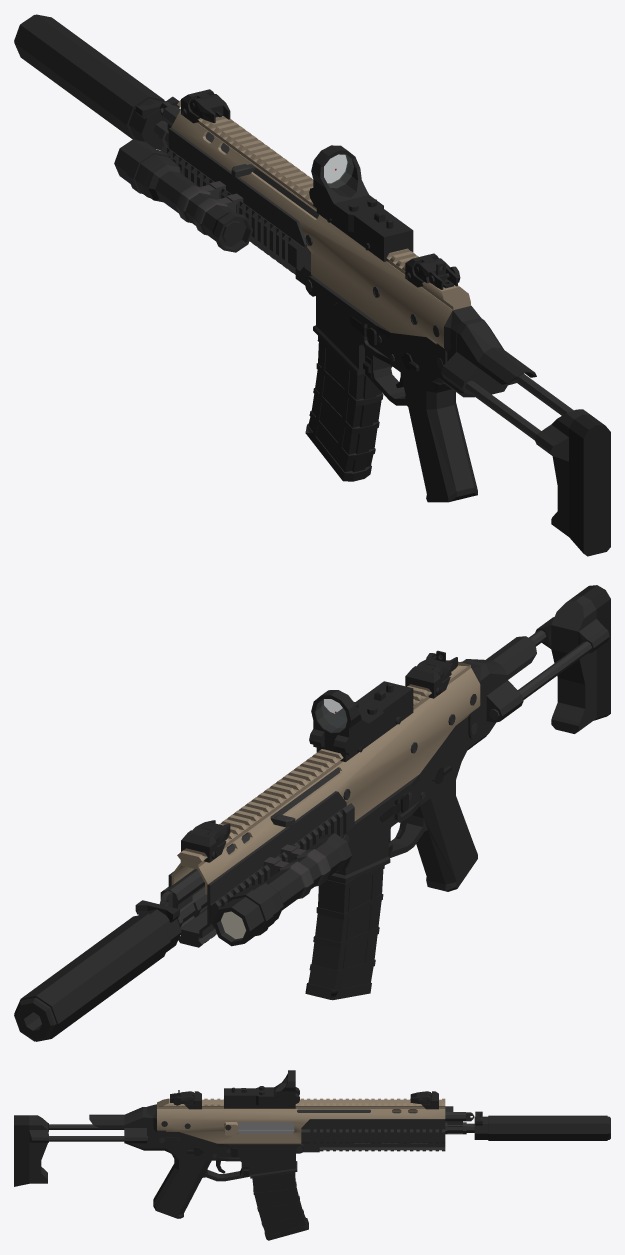
Rendered from acr.glb.
The picture shows the model from 3 angles, top to bottom: view 1: azimuth 30°, elevation 25°; view 2: azimuth 150°, elevation 25°; view 3: azimuth 270°, elevation 25°; orthographic projection. The views are drawn at different scales.
Parts seen in each view (by area): view 1: Receiver_Upper, Suppressor_Notch, Butt_Pad, Magazine_30_Round_PMAG, Pistol_Grip, Receiver_Lower, Body, Light_Tactical, Pic_Rail_Top, Handguard_Railed, Stock_Cover, Pic_RaiL_Left (+7 smaller); view 2: Receiver_Upper, Suppressor_Notch, Magazine_30_Round_PMAG, Butt_Pad, Receiver_Lower, Pistol_Grip, Light_Tactical, Body, Pic_Rail_Top, Handguard_Railed, Pic_RaiL_Left, Stock_Cover (+9 smaller); view 3: Receiver_Upper, Suppressor_Notch, Receiver_Lower, Magazine_30_Round_PMAG, Pistol_Grip, Butt_Pad, Handguard_Railed, Pic_Rail_Right, Pic_Rail_Top, Body, Stock_Cover, Pic_Rail_Bottom (+6 smaller).
Part boxes in pixels (box(x1,y1,x2,y2)): Receiver_Upper: box(171, 110, 471, 348); Suppressor_Notch: box(14, 14, 164, 149); Butt_Pad: box(534, 409, 610, 556); Magazine_30_Round_PMAG: box(305, 336, 383, 481); Pistol_Grip: box(365, 349, 477, 502); Receiver_Lower: box(304, 275, 451, 392); Body: box(309, 145, 413, 261); Light_Tactical: box(114, 139, 253, 252); Pic_Rail_Top: box(177, 100, 470, 309); Handguard_Railed: box(168, 128, 311, 285); Stock_Cover: box(457, 317, 536, 384); Pic_RaiL_Left: box(160, 146, 304, 270); Receiver_Upper: box(171, 668, 480, 894); Suppressor_Notch: box(14, 909, 181, 1041); Magazine_30_Round_PMAG: box(305, 865, 384, 1000); Butt_Pad: box(535, 585, 610, 733); Receiver_Lower: box(327, 717, 476, 882); Pistol_Grip: box(388, 780, 477, 891); Light_Tactical: box(213, 833, 351, 946); Body: box(309, 681, 413, 761); Pic_Rail_Top: box(177, 660, 470, 867); Handguard_Railed: box(168, 791, 346, 937); Pic_RaiL_Left: box(210, 803, 354, 927); Stock_Cover: box(463, 636, 536, 695); Receiver_Upper: box(157, 1109, 445, 1143); Suppressor_Notch: box(474, 1115, 610, 1140); Receiver_Lower: box(157, 1132, 304, 1178); Magazine_30_Round_PMAG: box(252, 1172, 308, 1240); Pistol_Grip: box(153, 1159, 250, 1218); Butt_Pad: box(14, 1115, 48, 1186); Handguard_Railed: box(301, 1119, 445, 1152); Pic_Rail_Right: box(301, 1129, 445, 1143); Pic_Rail_Top: box(157, 1098, 445, 1108); Body: box(224, 1070, 299, 1108); Stock_Cover: box(89, 1107, 146, 1127); Pic_Rail_Bottom: box(319, 1146, 445, 1151).
Bounding box in the file's own units: 0.0463 × 0.1381 × 0.4488.
12 materials, 12 textured.
